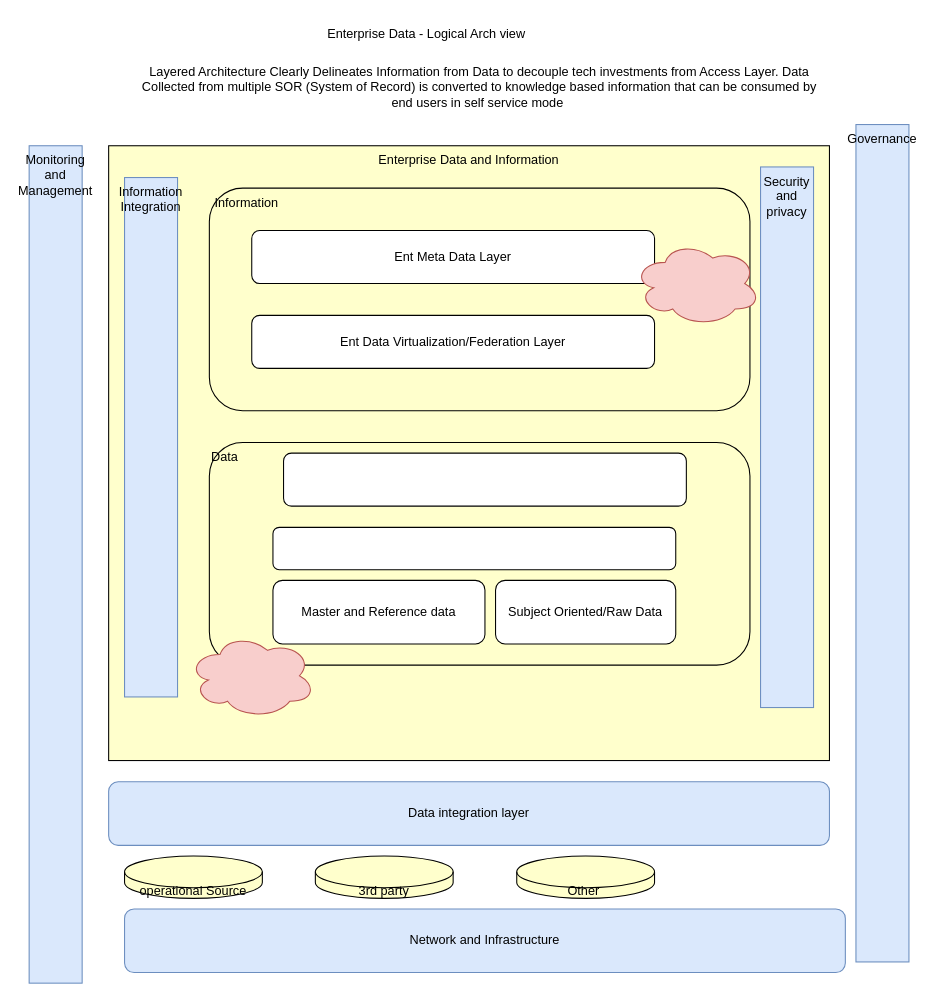
The diagram is 935 pixels wide and 1002 high, and some of its shapes have lost their labels. Here are the shapes that lost their labels. From the top down, the centre of each, then its label:
[696,283]: Azure cloud
[484,479]: Analytical Data layer
[474,548]: Integrated/Cross functional data layer
[251,675]: Google Cloud/On-premise
